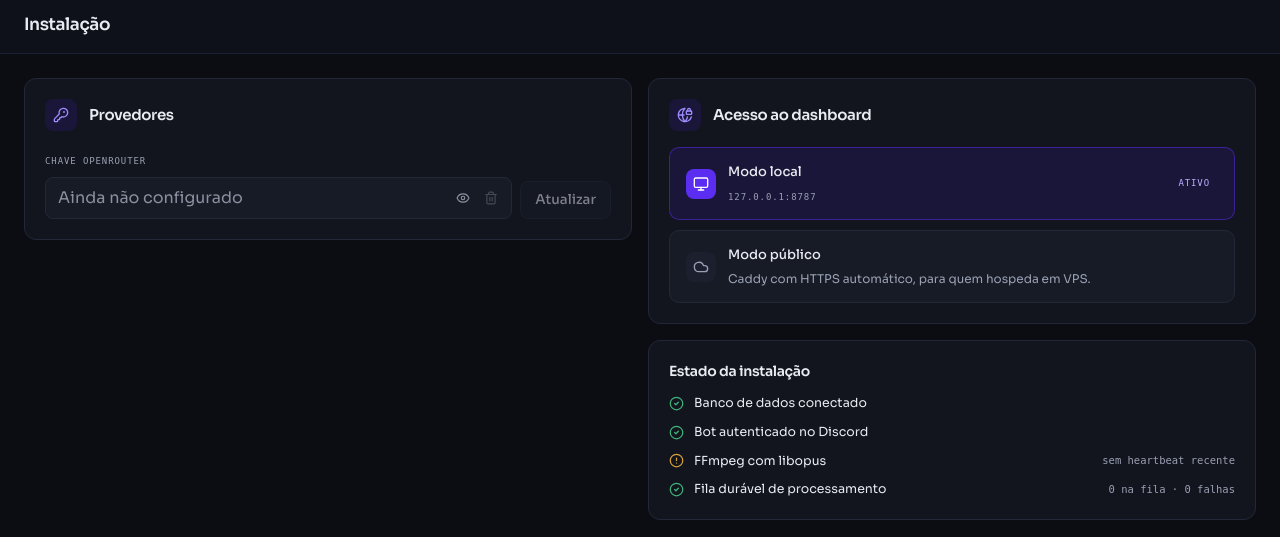
InstallationPage › keeps the key as configured after saving even when the reload fails
Type "sk-or-1" into the password field labelled "Chave OpenRouter" at (245, 198), box [46,178,443,218]
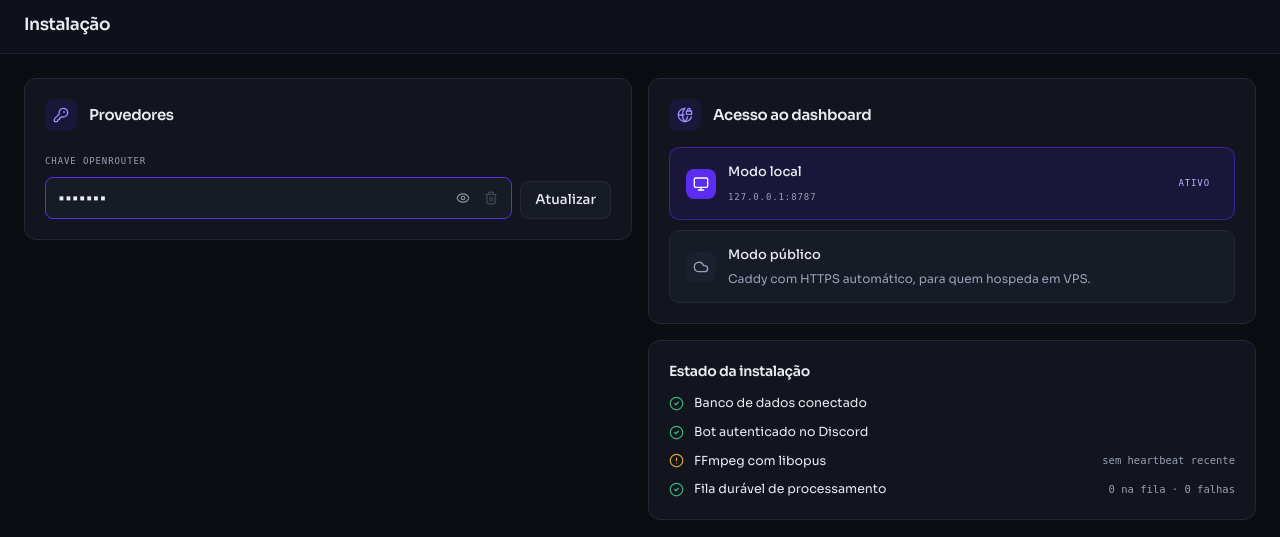
Click the button "Atualizar" at (566, 200), box [520,181,611,219]
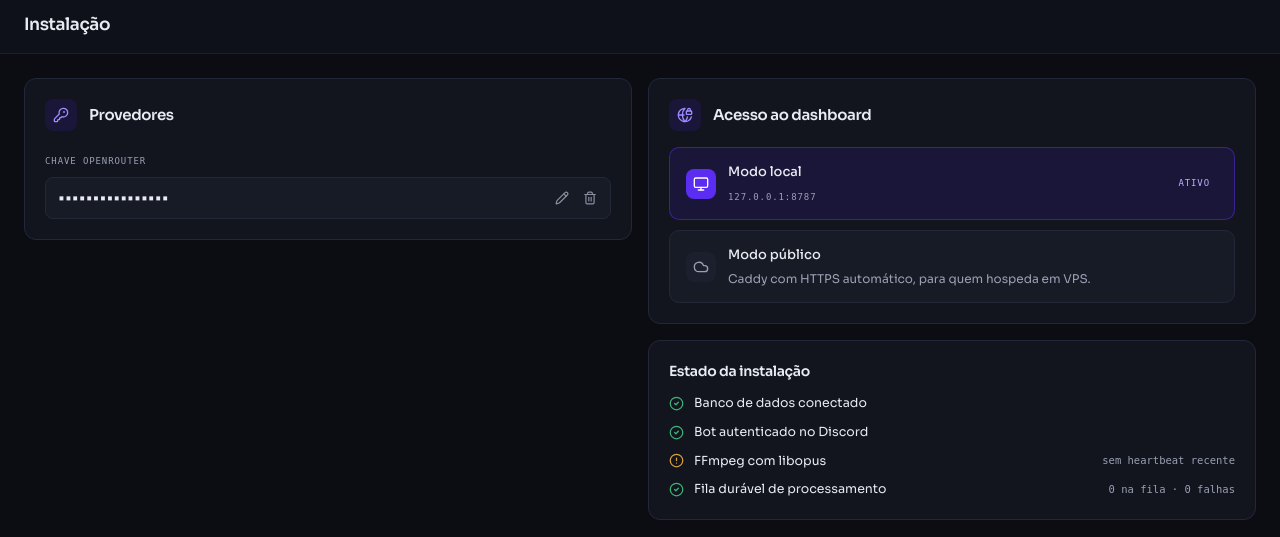
Now the password field labelled "Chave OpenRouter" holds "storedsecretmask", box [46,178,542,218]
Now the button named "Remover chave OpenRouter" is enabled, box [578,186,602,210]
